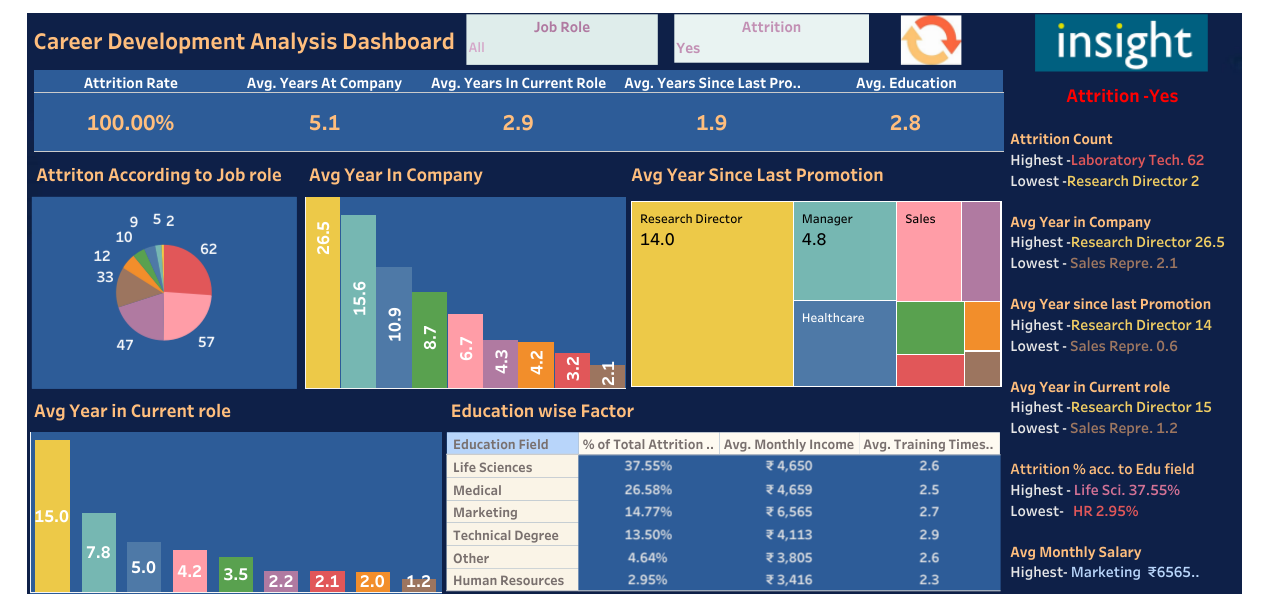

What the dashboard file says about the page in this screenshot:
{"tool":"tableau","page":{"name":"Dashboard 1","canvas":[1155,552],"ordinal":0},"visuals":[{"type":"image","param":"Image/OIP (3).jpg","box":[8,8,1139,536]},{"type":"text","box":[28,12,403,48]},{"type":"filter","title":"Edu wise factor","param":"[federated.1eyj9jd14avew515u5lix08j5m5p].[none:JobRole:nk]","box":[433,13,174,46]},{"type":"filter","title":"Avg Year In Company","param":"[federated.1eyj9jd14avew515u5lix08j5m5p].[none:Attrition:nk]","box":[613,13,177,44]},{"type":"image","param":"Image/letterbox668x220.png","box":[914,13,212,52]},{"type":"dashboard-object","box":[804,14,85,45]},{"type":"worksheet","title":"KPI","mark":"Automatic","box":[31,64,882,75]},{"type":"text","box":[916,68,209,467]},{"type":"worksheet","title":"Attriton According to Job role","mark":"Pie","box":[29,141,240,212]},{"type":"worksheet","title":"Avg Year In Company","mark":"Bar","rows":["YearsAtCompany"],"cols":["JobRole"],"box":[277,141,291,212]},{"type":"worksheet","title":"Avg Year Since Last Promotion","mark":"Automatic","box":[570,141,344,215]},{"type":"worksheet","title":"Avg Year in Current role","mark":"Bar","rows":["YearsInCurrentRole"],"cols":["JobRole"],"box":[27,355,374,184]},{"type":"worksheet","title":"Edu wise factor","mark":"Automatic","rows":["EducationField"],"box":[406,355,504,184]}]}

Visuals, with their boxes in screenshot pixels (x1, y1, x2, y2), scaled from the page's 1155x552 canvas onto the 1269x606 screenshot:
image: region(9, 9, 1260, 597)
text: region(31, 13, 474, 66)
"Edu wise factor" filter: region(476, 14, 667, 65)
"Avg Year In Company" filter: region(674, 14, 868, 63)
image: region(1004, 14, 1237, 71)
dashboard-object: region(883, 15, 977, 65)
"KPI" worksheet: region(34, 70, 1003, 153)
text: region(1006, 75, 1236, 587)
"Attriton According to Job role" worksheet (Pie marks): region(32, 155, 296, 388)
"Avg Year In Company" worksheet (Bar marks): region(304, 155, 624, 388)
"Avg Year Since Last Promotion" worksheet: region(626, 155, 1004, 391)
"Avg Year in Current role" worksheet (Bar marks): region(30, 390, 441, 592)
"Edu wise factor" worksheet: region(446, 390, 1000, 592)
